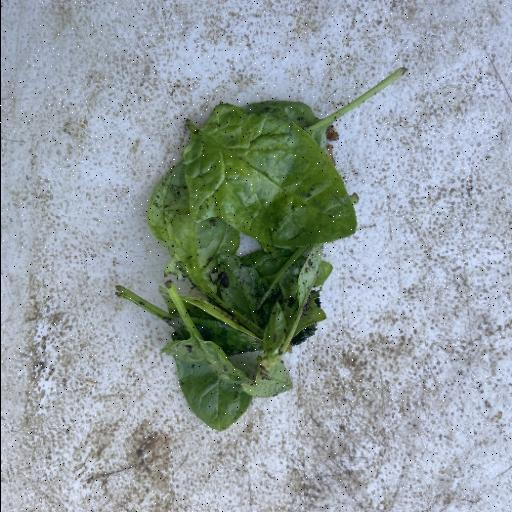Waste: (112, 64, 408, 432)
